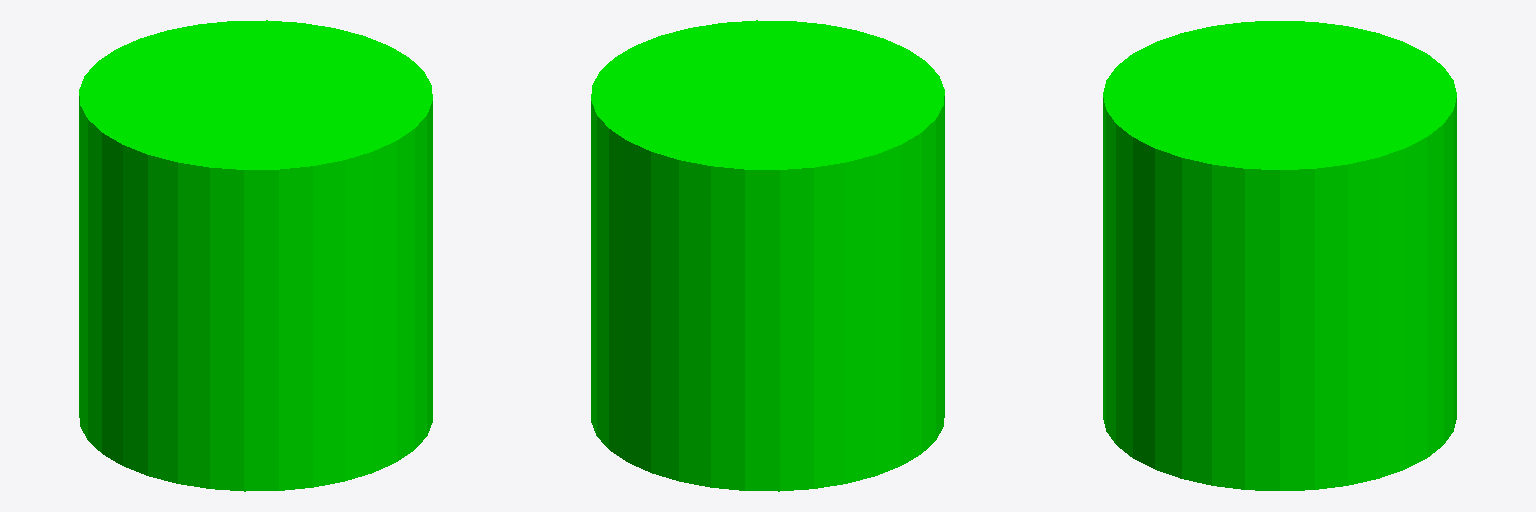
URDF robot description (my_robot):
<?xml version="1.0"?>
<robot name="my_robot" xmlns:xacro="http://ros.org/wiki/xacro">

    <!-- Define material -->
    <material name="green">
        <color rgba="0.0 1.0 0.0 1.0"/>
    </material>

    <!-- Base Link -->
    <link name="base_link">
        <visual>
            <geometry>
		<mesh filename="package://lars_groundbot_description/meshes/lars_groundbot.obj" scale="1.0 1.0 1.0"/>

            </geometry>
            <material name="green"/>
        </visual>
    </link>

    <!-- Wheels -->
    <joint name="left_wheel_joint" type="continuous">
        <parent link="base_link"/>
        <child link="left_wheel"/>
        <origin xyz="-0.2 0.3 0"/>
    </joint>
    <link name="left_wheel"/>

    <joint name="right_wheel_joint" type="continuous">
        <parent link="base_link"/>
        <child link="right_wheel"/>
        <origin xyz="0.2 0.3 0"/>
    </joint>
    <link name="right_wheel"/>

    <!-- LiDAR -->
    <joint name="lidar_joint" type="fixed">
        <parent link="base_link"/>
        <child link="lidar"/>
        <origin xyz="0 0 0.2"/>
    </joint>
    <link name="lidar">
        <visual>
            <geometry>
                <cylinder radius="0.05" length="0.1"/>
            </geometry>
            <material name="green"/>
        </visual>
    </link>

</robot>

--- Facts derived from the render (not from the file) ---
Views: 3 orthographic renders of the robot side by side, from view 1: azimuth 30°, elevation 25°; view 2: azimuth 150°, elevation 25°; view 3: azimuth 270°, elevation 25°.
Robot: my_robot — 4 links, 3 joints (2 continuous, 1 fixed); root link base_link; default pose: every joint at zero.
Links seen in each view (by area): view 1: lidar; view 2: lidar; view 3: lidar.
Boxes of the visible links, left/top/right/bottom form: lidar: left=79, top=20, right=432, bottom=491; lidar: left=591, top=20, right=944, bottom=491; lidar: left=1103, top=21, right=1456, bottom=490.
Size in the robot's own frame: 0.1 by 0.1 by 0.1 metres.
Meshes: 1 distinct files referenced, 0 mesh visuals loaded (none loaded); not drawn: 1 (reference not matched to a file when rendering).
